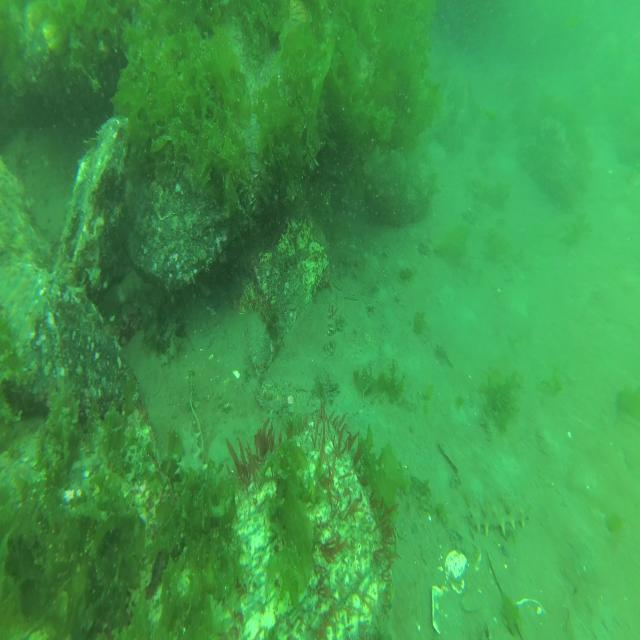holothurian: (174, 417, 208, 480), (470, 498, 526, 536), (539, 116, 565, 140)
scallop: (445, 550, 468, 595), (431, 585, 448, 636), (288, 0, 312, 28)
